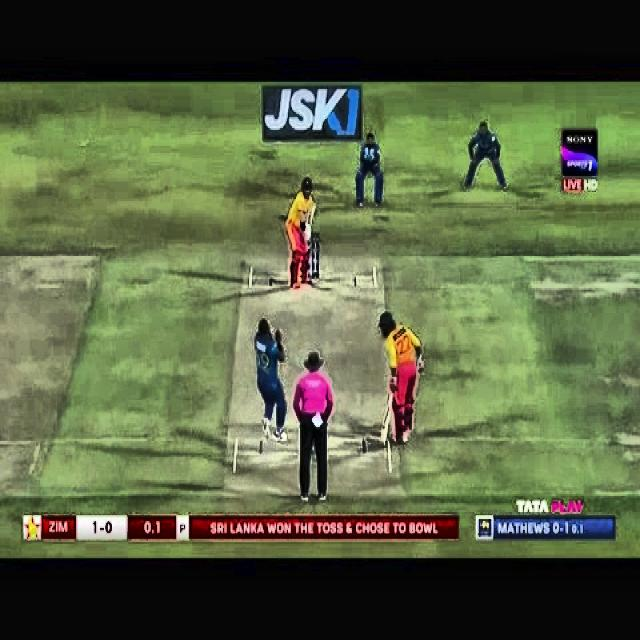Left-stump: (316, 236, 319, 278), (310, 233, 310, 238)
Middle-stump: (311, 236, 315, 278)
